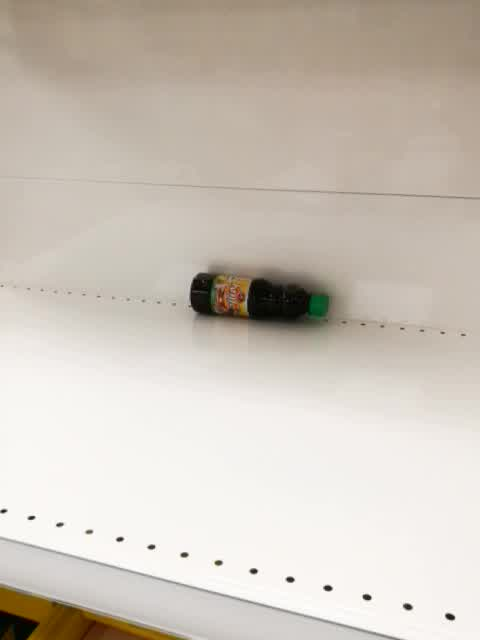cookingoil: (185, 268, 331, 323)
